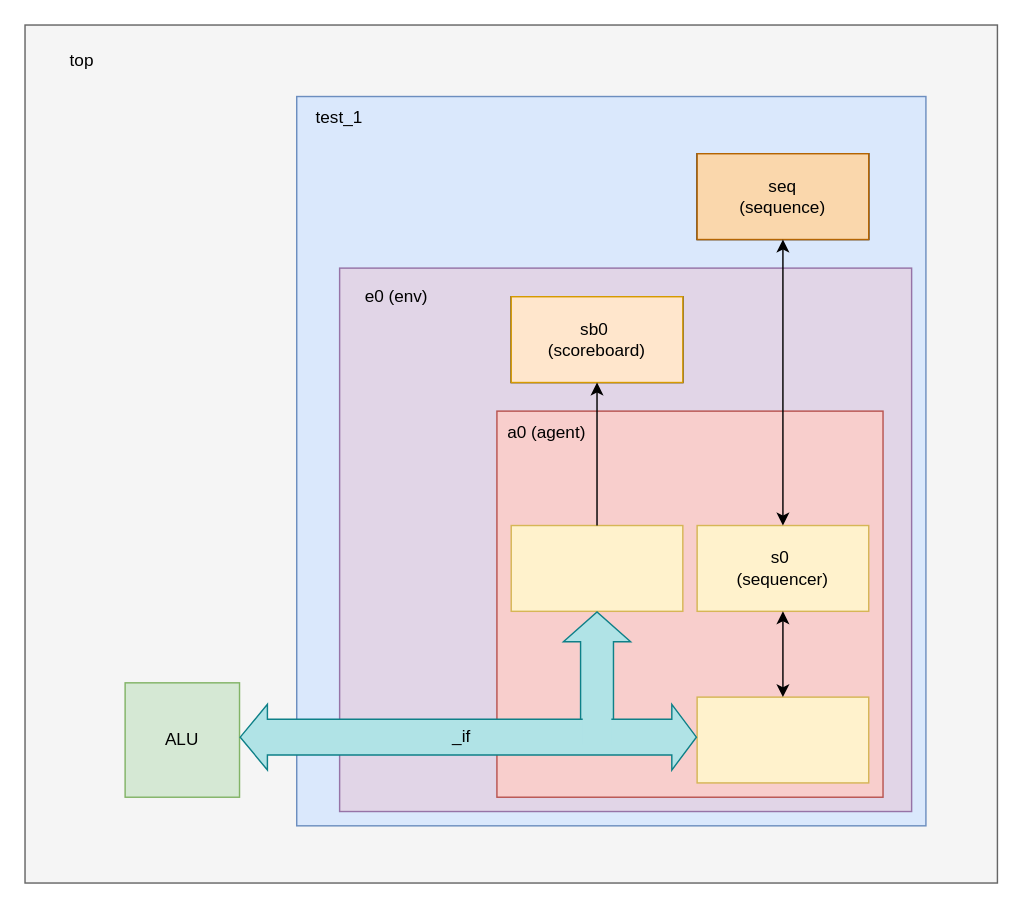
Some shapes in this 1022 by 908 pixel diagram are drawn without their labels. Each missing label, with the box of its shape:
d0 (driver): (696, 696, 869, 783)
m0 (monitor): (510, 524, 683, 611)
